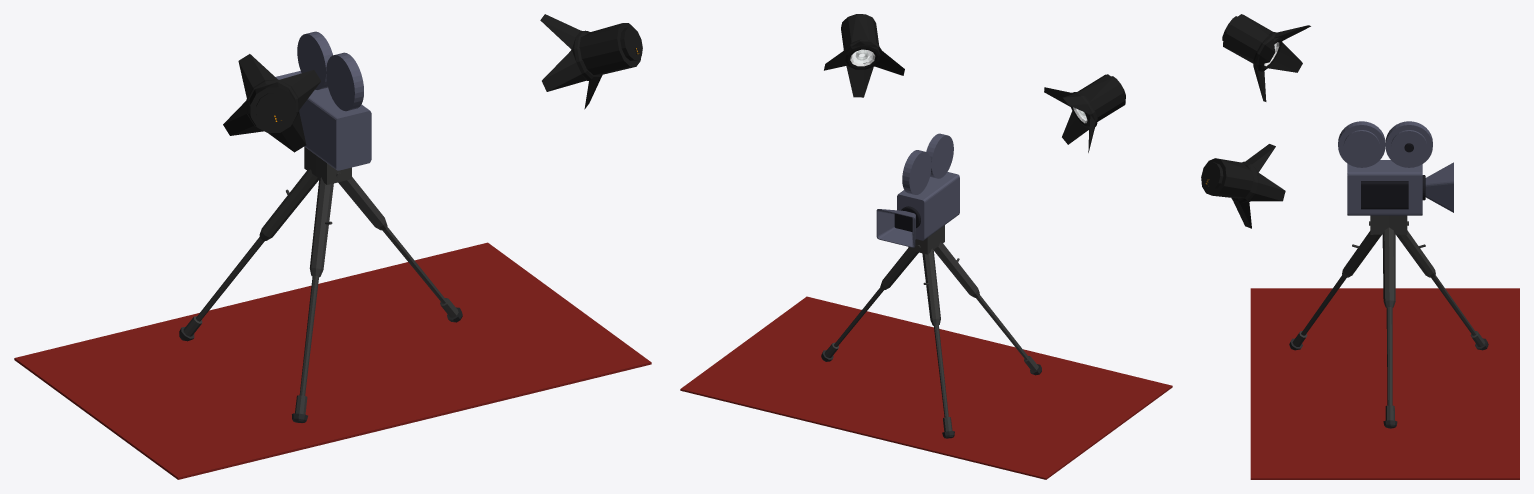
The model's file is film.glb.
The picture shows the model from 3 angles, left to right: view 1: azimuth 30°, elevation 25°; view 2: azimuth 150°, elevation 25°; view 3: azimuth 270°, elevation 25°; orthographic projection. The views are drawn at different scales.
Visible parts, largest first — view 1: WoolCarpet1, Tripod, Cylinder_003, group11572402042, group1157240204, group62352822, group623528222, group7951256212; view 2: WoolCarpet1, Cylinder_003, Tripod, group1157240204, group11572402042, group623528222, group62352822; view 3: WoolCarpet1, Cylinder_003, Tripod, group11572402042, group1157240204, group623528222, group62352822, group795125621.
Boxes of the visible parts, bbox=[...] form: WoolCarpet1: bbox=[14, 242, 651, 479]; Tripod: bbox=[179, 147, 462, 422]; Cylinder_003: bbox=[275, 31, 371, 170]; group11572402042: bbox=[223, 54, 320, 152]; group1157240204: bbox=[540, 14, 602, 109]; group62352822: bbox=[579, 23, 641, 75]; group623528222: bbox=[249, 82, 296, 133]; group7951256212: bbox=[256, 93, 290, 127]; WoolCarpet1: bbox=[680, 296, 1172, 479]; Cylinder_003: bbox=[876, 133, 959, 247]; Tripod: bbox=[821, 225, 1041, 438]; group1157240204: bbox=[824, 39, 904, 97]; group11572402042: bbox=[1044, 87, 1097, 152]; group623528222: bbox=[1077, 74, 1125, 121]; group62352822: bbox=[841, 14, 879, 63]; WoolCarpet1: bbox=[1250, 288, 1519, 479]; Cylinder_003: bbox=[1338, 121, 1453, 215]; Tripod: bbox=[1289, 215, 1488, 428]; group11572402042: bbox=[1253, 25, 1310, 101]; group1157240204: bbox=[1231, 144, 1285, 228]; group623528222: bbox=[1223, 14, 1272, 63]; group62352822: bbox=[1201, 158, 1253, 198]; group795125621: bbox=[1201, 162, 1223, 190].
Bounding box in the file's own units: 18.95 × 14.42 × 13.44.
